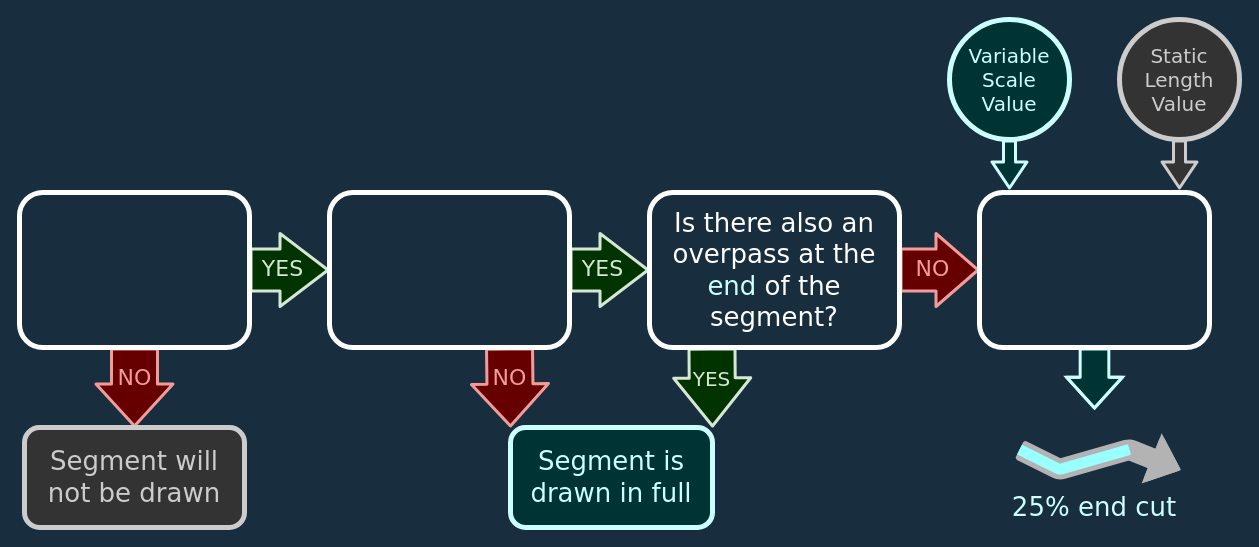
Image size: 1259x547. Some labels were removed from this diagram. The centre of each missing label's shape, as x and y in pixels:
Calculate 25% of total length at current scale: point 1094,270
Is there an overpass at either end of the segment?: point 134,270
Is there an overpass at the start of the segment?: point 449,270
